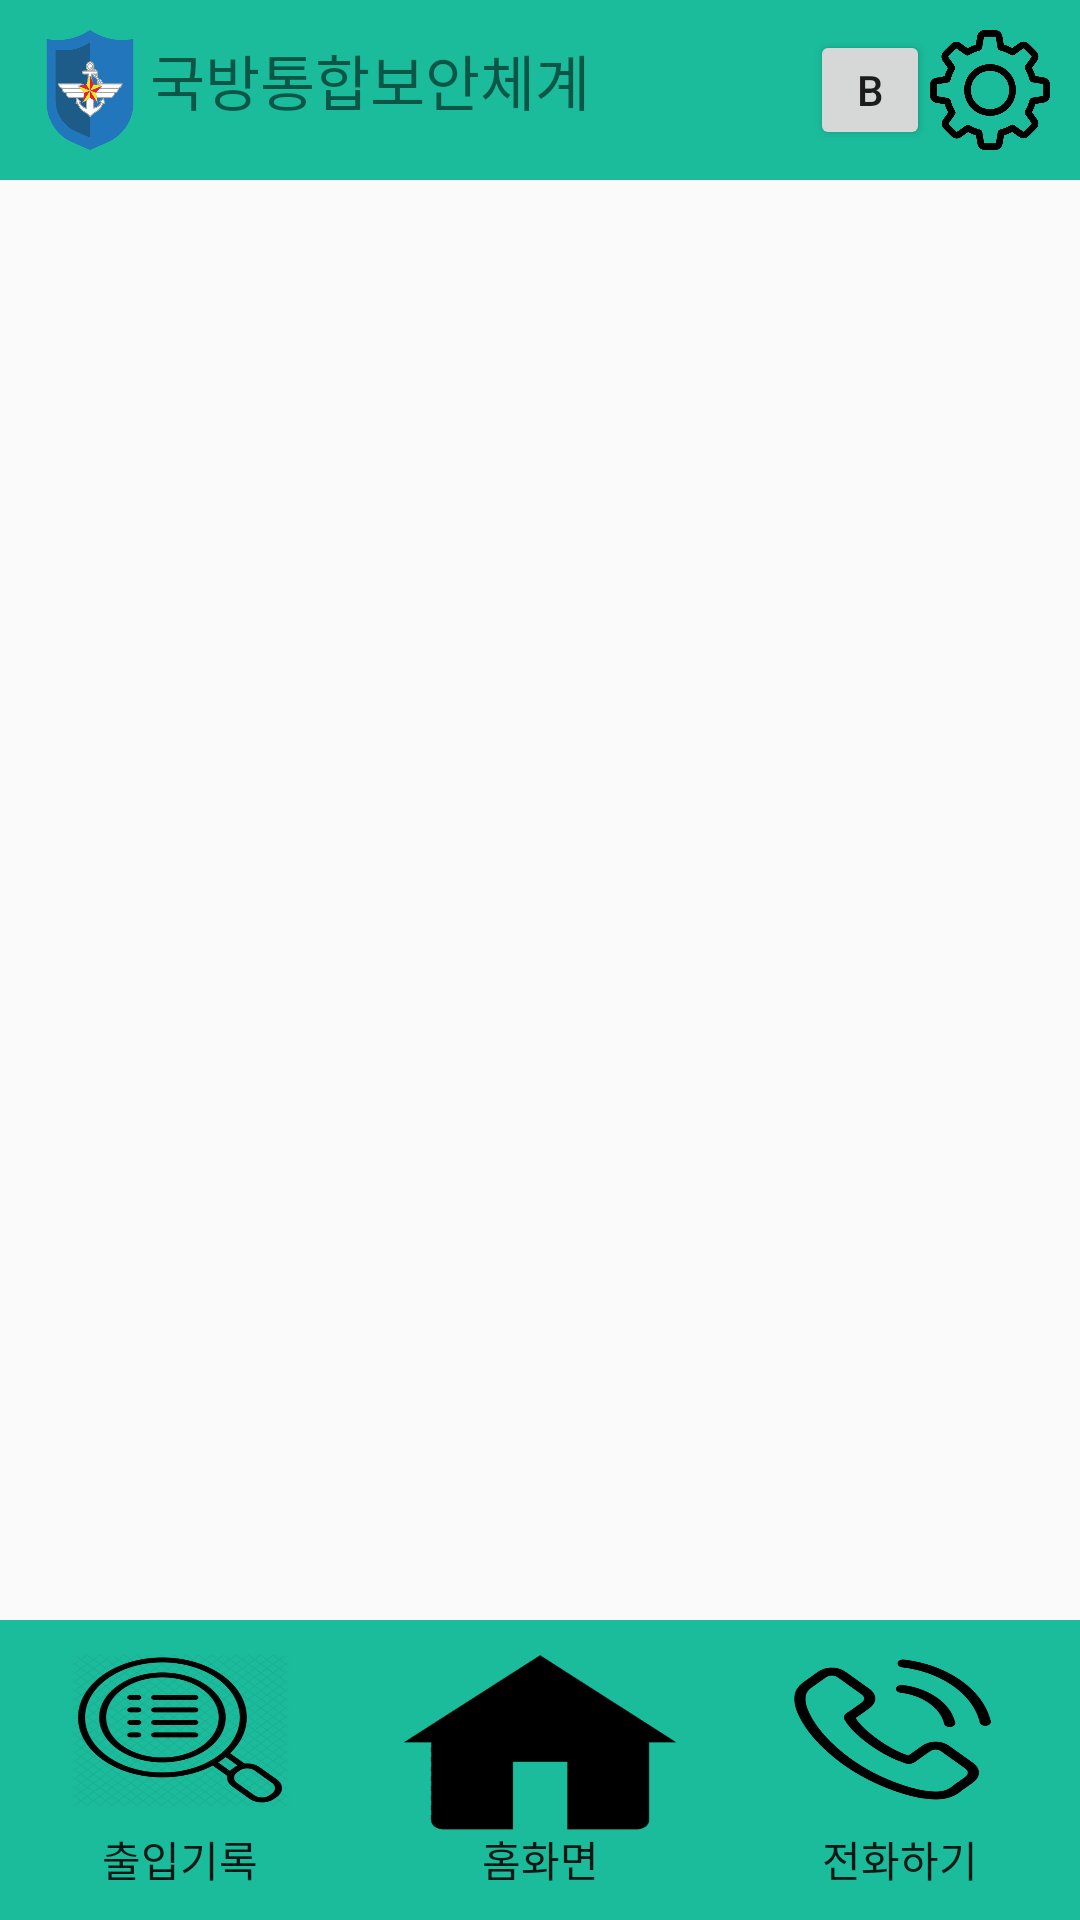

Named icons in this screenshot (1080x1920) and their centers, (x,y):
settingsicon: (990,90)
